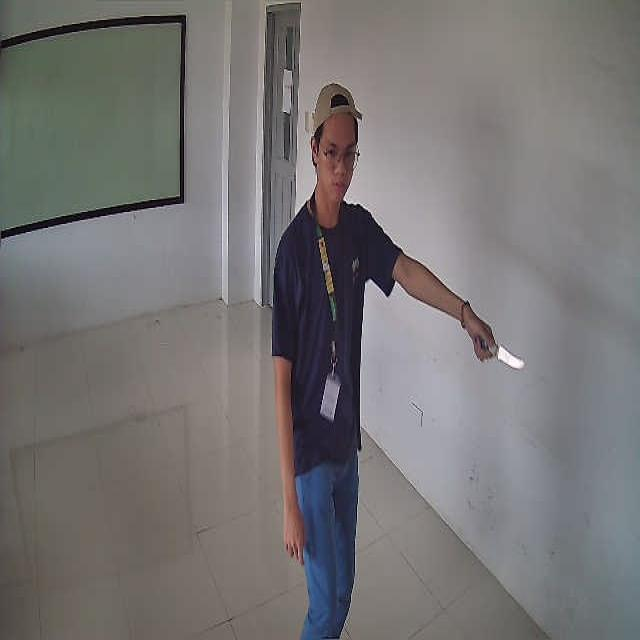knife: (495, 342, 525, 370)
